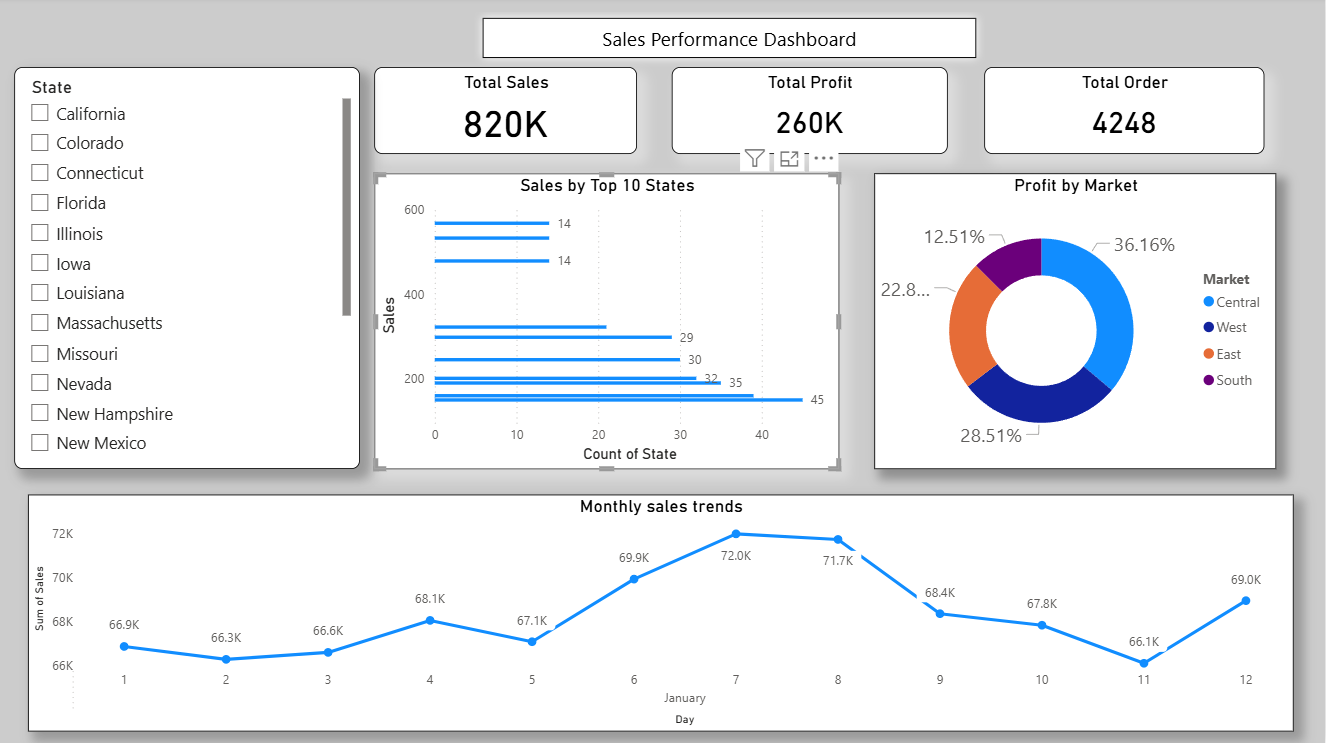

The page's visual inventory and layout, read from the dashboard file:
{"tool":"powerbi","page":{"name":"Page 1","canvas":[1280,720],"ordinal":0},"visuals":[{"type":"card","title":"Total Sales","fields":{"Values":["Sum(sales.Sales)"]},"box":[363.6,67.2,253.9,83.7],"z":0},{"type":"card","title":"Total Profit","fields":{"Values":["Sum(sales.Profit)"]},"box":[650.4,67.2,266.2,83.7],"z":1000},{"type":"card","title":"Total Order","fields":{"Values":["CountNonNull(sales.Area Code)"]},"box":[952.3,67.2,270.3,83.7],"z":2000},{"type":"clusteredBarChart","title":"Sales by Top 10 States","fields":{"Y":["CountNonNull(sales.State)"],"Category":["sales.Sales"]},"box":[363.6,170.2,448.7,285.4],"z":3000},{"type":"donutChart","title":" Profit by Market","fields":{"Category":["sales.Market"],"Y":["Sum(sales.Profit)"]},"box":[845.3,170.2,388.3,285.4],"z":4000},{"type":"lineChart","title":"Monthly sales trends","fields":{"Category":["sales.Date.Variation.Date Hierarchy.Month","sales.Date.Variation.Date Hierarchy.Day"],"Y":["Sum(sales.Sales)"]},"box":[28.8,480.3,1221.3,229.2],"z":5000},{"type":"shape","box":[459.7,12.3,492.6,54.9],"z":6000},{"type":"slicer","fields":{"Values":["sales.State"]},"box":[15.1,67.2,333.4,388.3],"z":6001}]}

Visuals, with their boxes in screenshot pixels (x1, y1, x2, y2), scaled from the page's 1280x720 canvas onto the 1326x743 screenshot:
"Total Sales" card: pyautogui.locateOnScreen(377, 69, 640, 156)
"Total Profit" card: pyautogui.locateOnScreen(674, 69, 950, 156)
"Total Order" card: pyautogui.locateOnScreen(987, 69, 1267, 156)
"Sales by Top 10 States" clusteredBarChart: pyautogui.locateOnScreen(377, 176, 841, 470)
" Profit by Market" donutChart: pyautogui.locateOnScreen(876, 176, 1278, 470)
"Monthly sales trends" lineChart: pyautogui.locateOnScreen(30, 496, 1295, 732)
shape: pyautogui.locateOnScreen(476, 13, 987, 69)
slicer - sales.State: pyautogui.locateOnScreen(16, 69, 361, 470)
